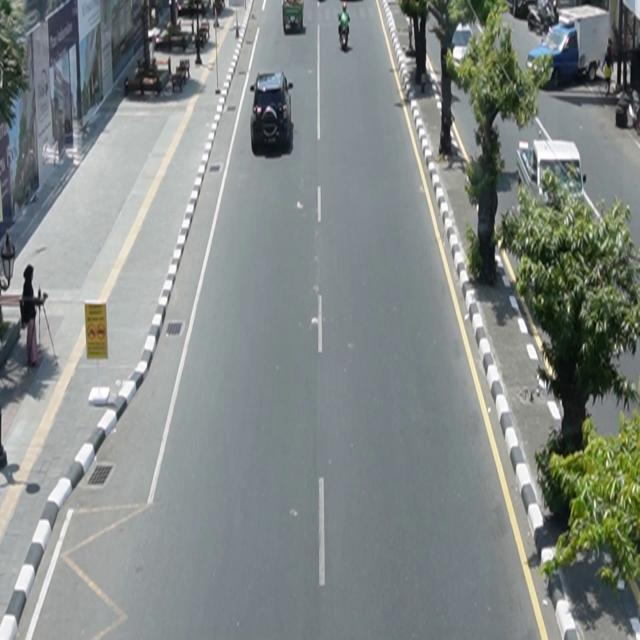car: (517, 139, 587, 212), (251, 71, 295, 154), (451, 25, 480, 67), (283, 1, 304, 35)
